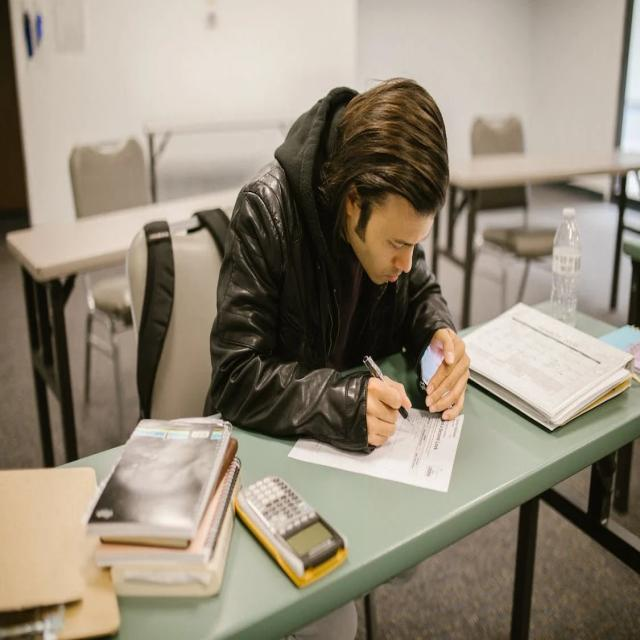studying-person: (87, 66, 474, 623)
